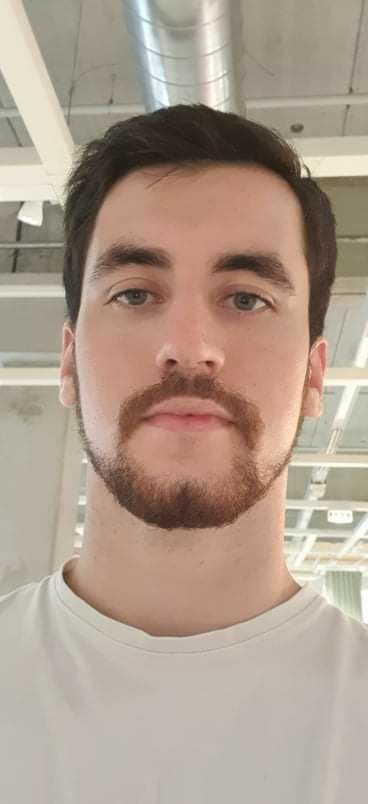without_mask: (72, 167, 307, 528)
